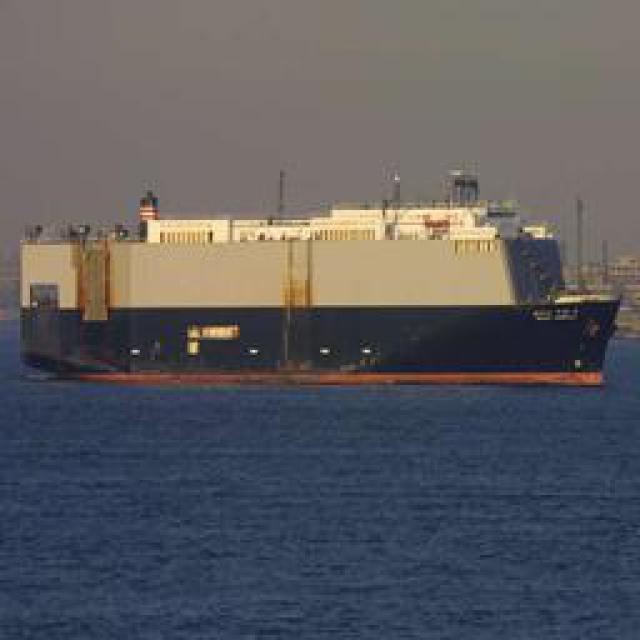Ship: (31, 205, 621, 375)
